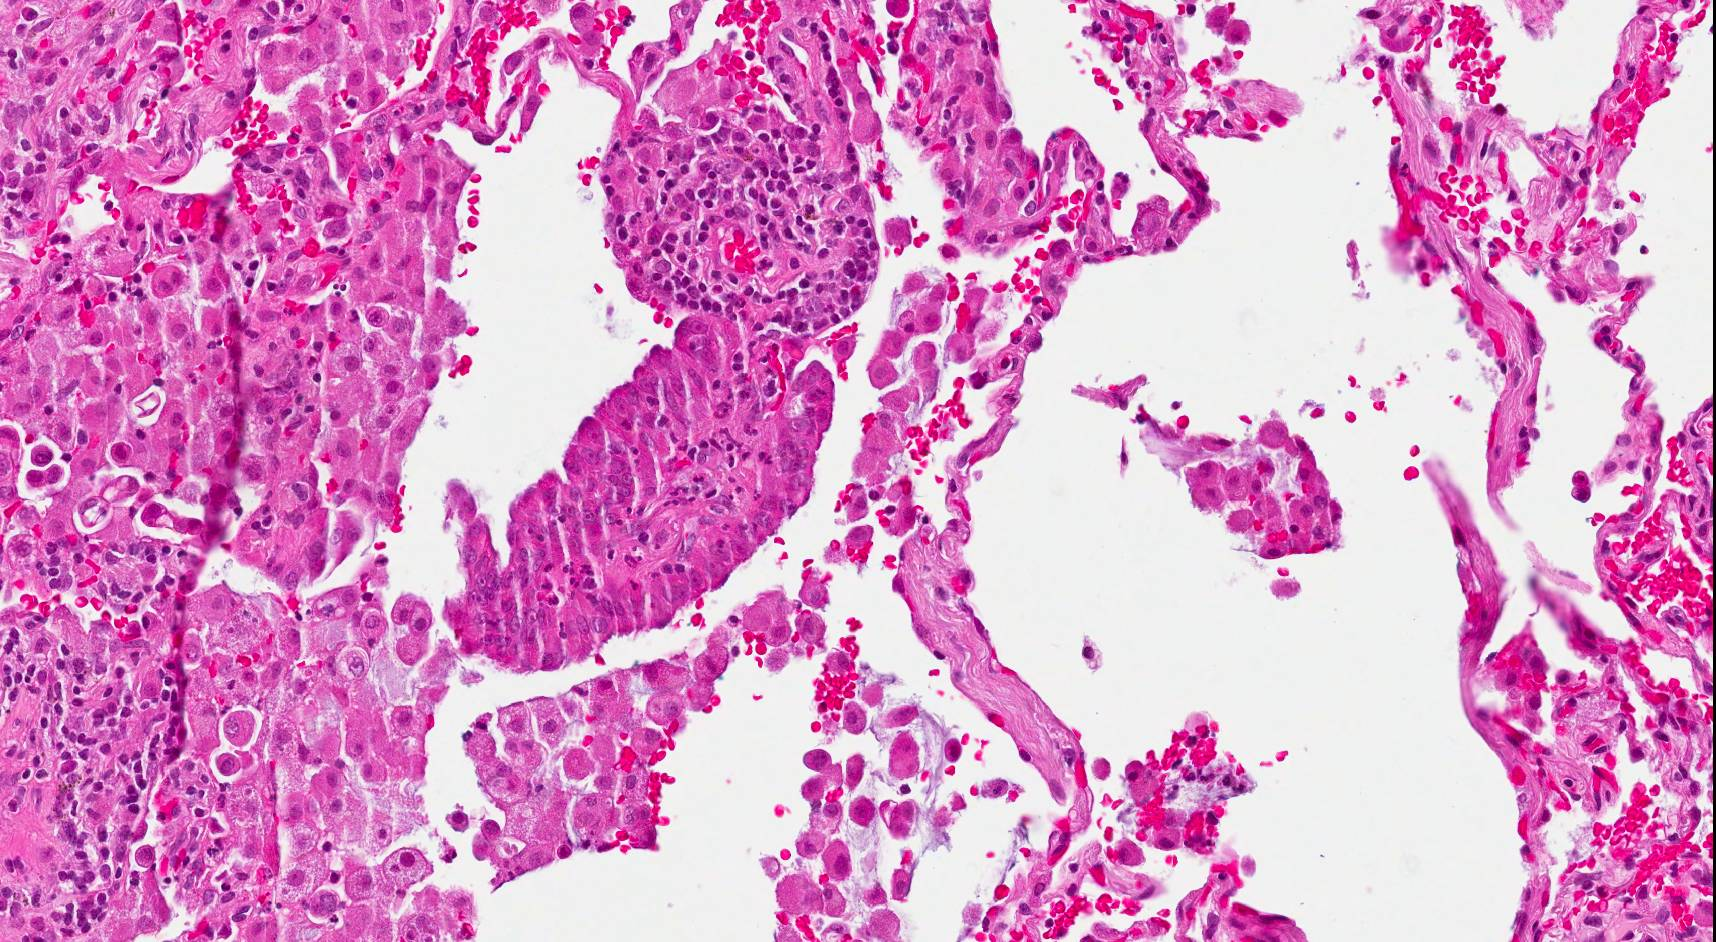stas: (447, 310, 839, 682)
